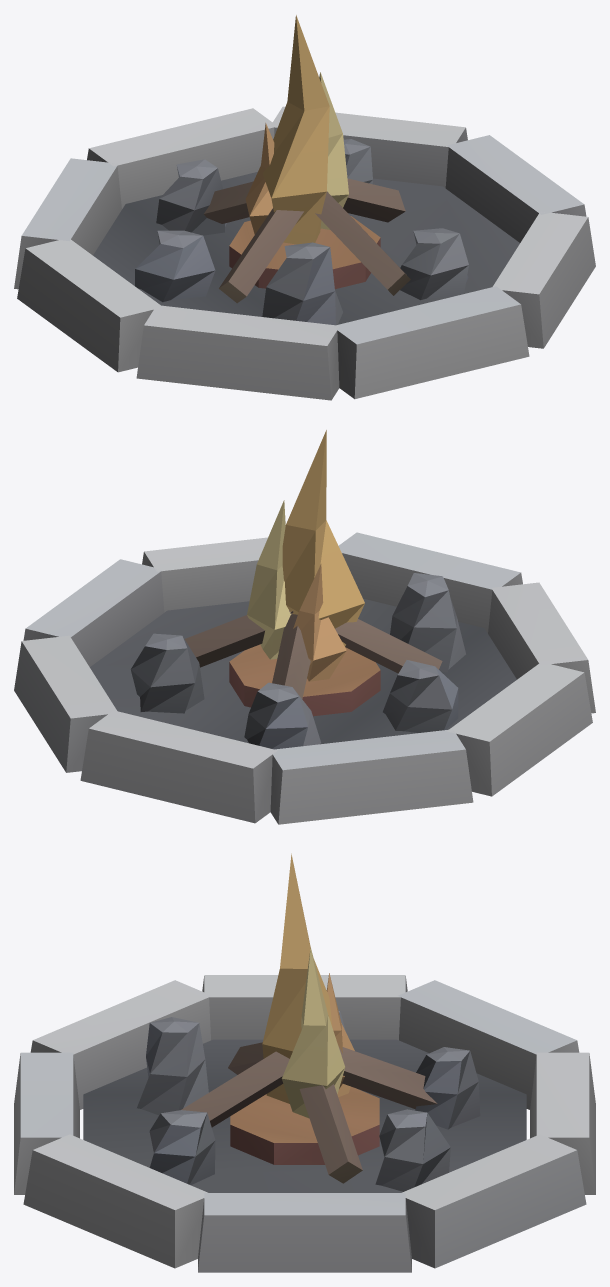
Rendered from firepit.lod2.glb.
3 views of the same model, one above another, from view 1: azimuth 30°, elevation 25°; view 2: azimuth 150°, elevation 25°; view 3: azimuth 270°, elevation 25° (orthographic). The views are drawn at different scales.
Size of the model in its own units: 1.94 by 1.06 by 1.94.
